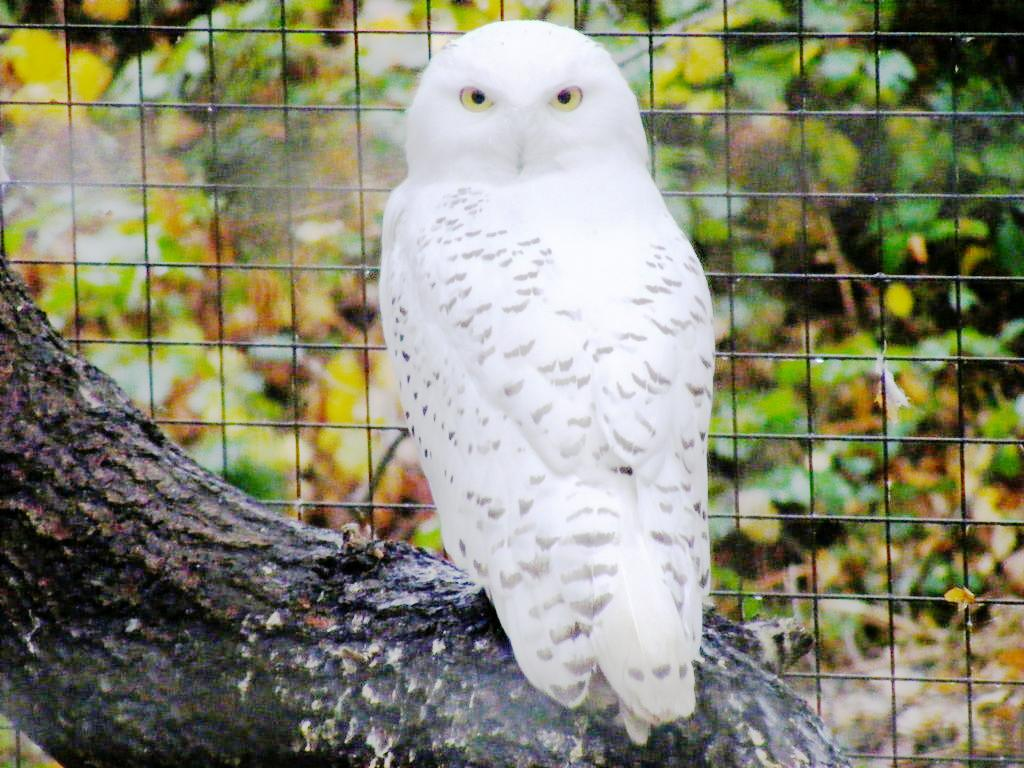Owl: (378, 15, 716, 741)
